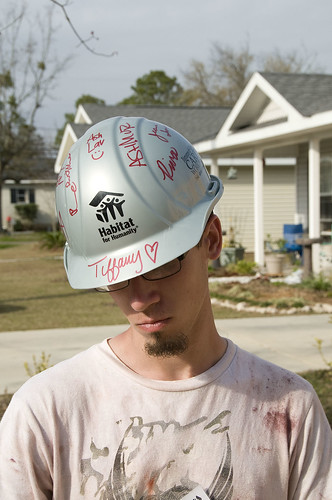person hardhat: (10, 120, 332, 500)
